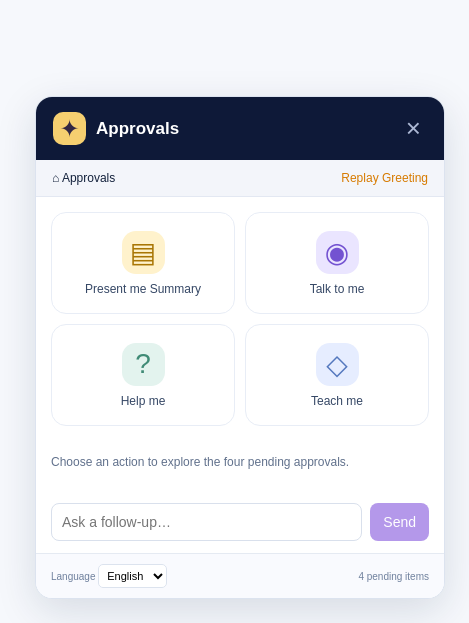
truncated stream is an error rather than silent success
Click the button "◉ Talk to me".
click(337, 263)  # box [245, 212, 429, 314]
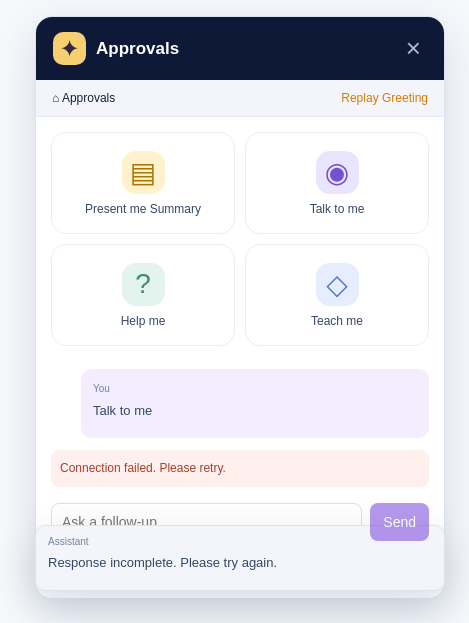
Now the message "Connection failed. Please retry." is shown, box [51, 450, 429, 487]
